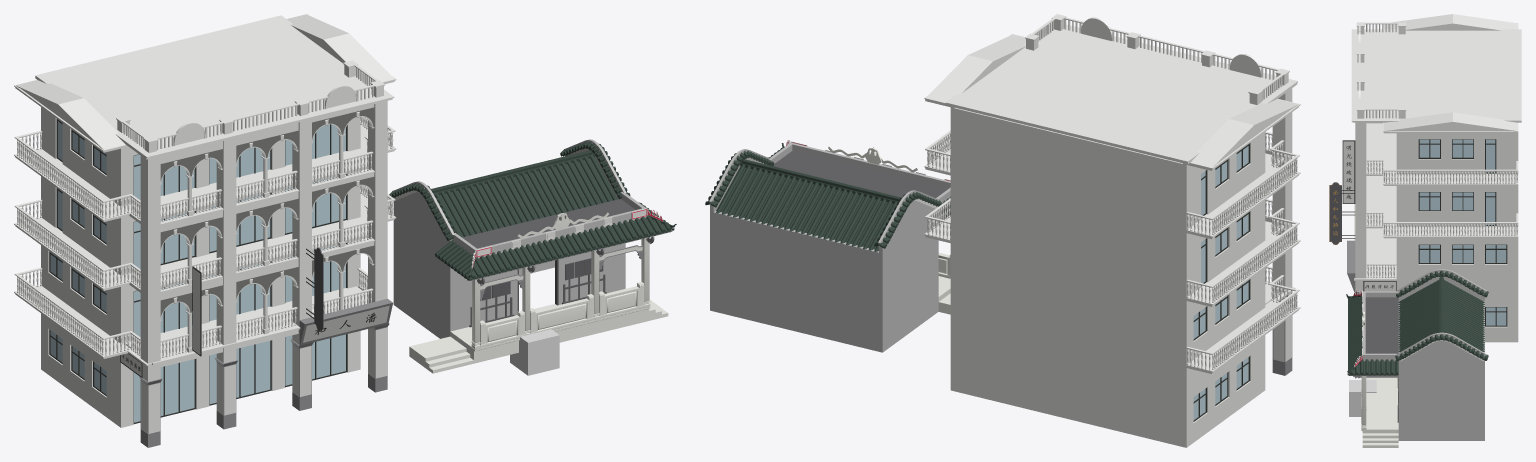
Rendered from temple-draco.glb.
The picture shows the model from 3 angles, left to right: view 1: azimuth 30°, elevation 25°; view 2: azimuth 150°, elevation 25°; view 3: azimuth 270°, elevation 25°; orthographic projection. The views are drawn at different scales.
Visible parts, largest first — view 1: Line014, Rectangle972, Cube; view 2: Line014, Rectangle972; view 3: Line014, Rectangle972, Cube.
Boxes of the visible parts, x1,y1,x2,y2 form: Line014: [14, 14, 676, 447]; Rectangle972: [50, 121, 345, 422]; Cube: [510, 329, 559, 375]; Line014: [705, 14, 1300, 447]; Rectangle972: [1193, 146, 1248, 419]; Line014: [1329, 14, 1521, 447]; Rectangle972: [1419, 139, 1506, 325]; Cube: [1349, 380, 1376, 416].
Size of the model in its own units: 34.99 by 19.91 by 13.91.
Materials: 3 (3 with a texture image).
